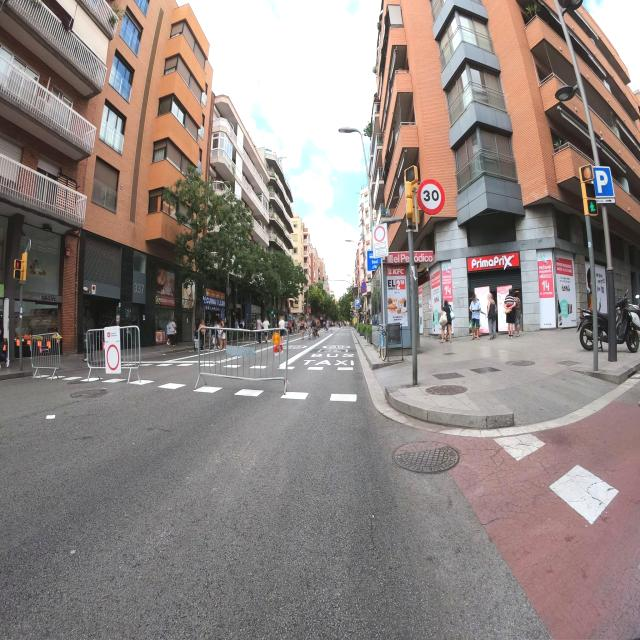bike: (578, 302, 640, 353), (376, 322, 388, 361)
